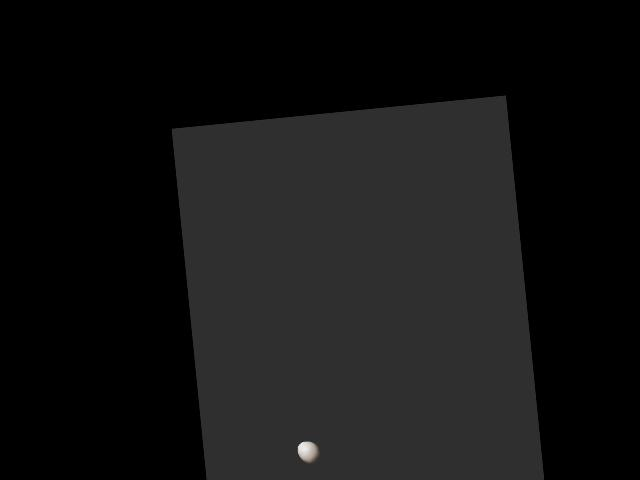egg: (297, 440, 321, 465)
